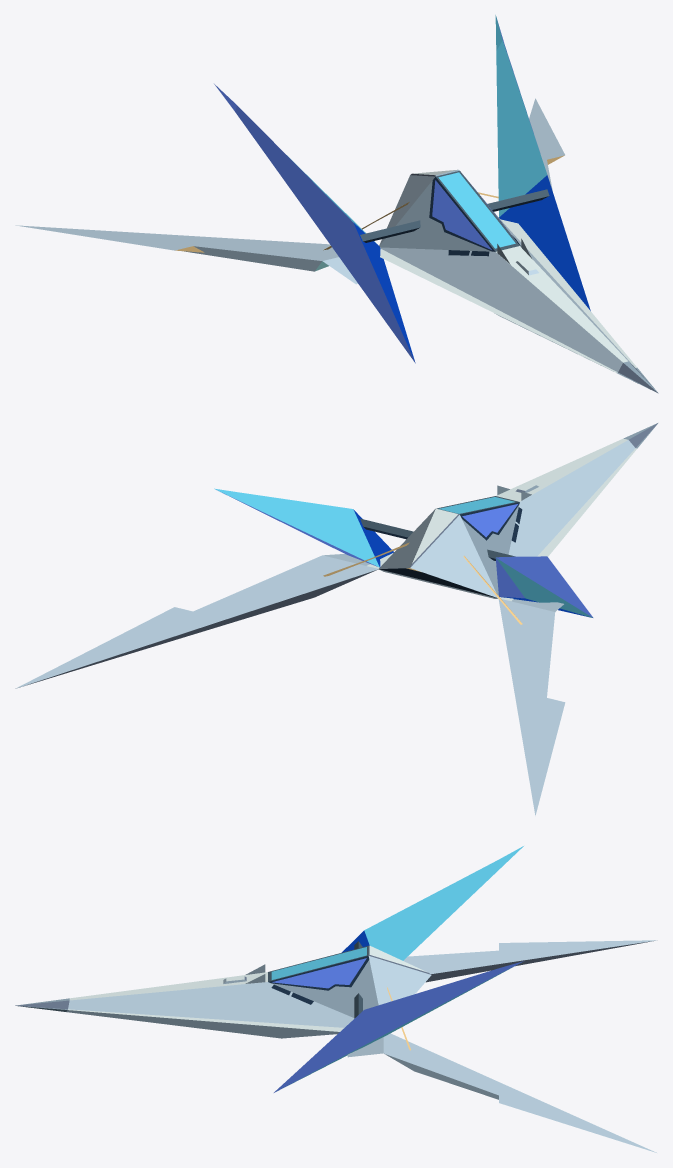
File: Snes_Arwing.obj
The picture shows the model from 3 angles, top to bottom: view 1: azimuth 30°, elevation 25°; view 2: azimuth 150°, elevation 25°; view 3: azimuth 270°, elevation 25°; orthographic projection. The views are drawn at different scales.
Visible parts, largest first — view 1: Plane, Plane.001_Plane.004; view 2: Plane, Plane.001_Plane.004; view 3: Plane, Plane.001_Plane.004.
Part boxes in pixels (<box>): Plane: <box>15,15,658,393</box>; Plane.001_Plane.004: <box>429,170,519,251</box>; Plane: <box>15,423,657,815</box>; Plane.001_Plane.004: <box>436,496,519,540</box>; Plane: <box>15,846,656,1152</box>; Plane.001_Plane.004: <box>268,946,369,990</box>.
Bounding box in the file's own units: 10.4 × 3.5 × 13.28.
